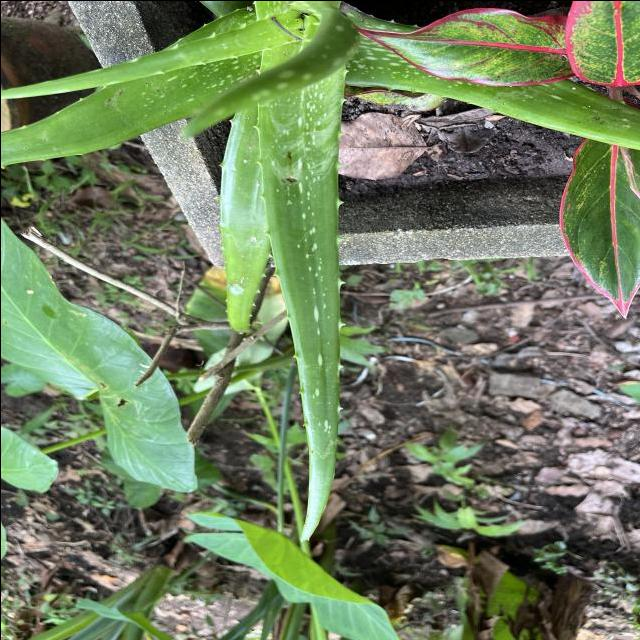Aloe vera: (252, 66, 358, 546)
